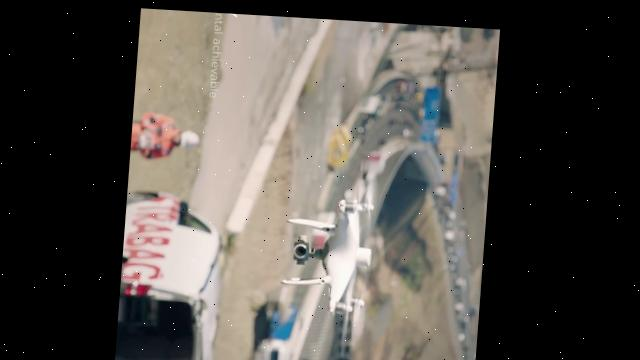drone: (280, 162, 380, 350)
